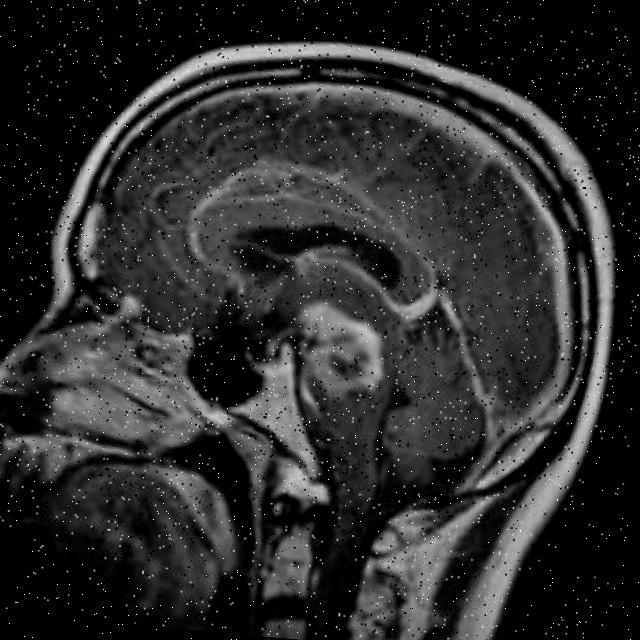MCI: (238, 258, 441, 441)
